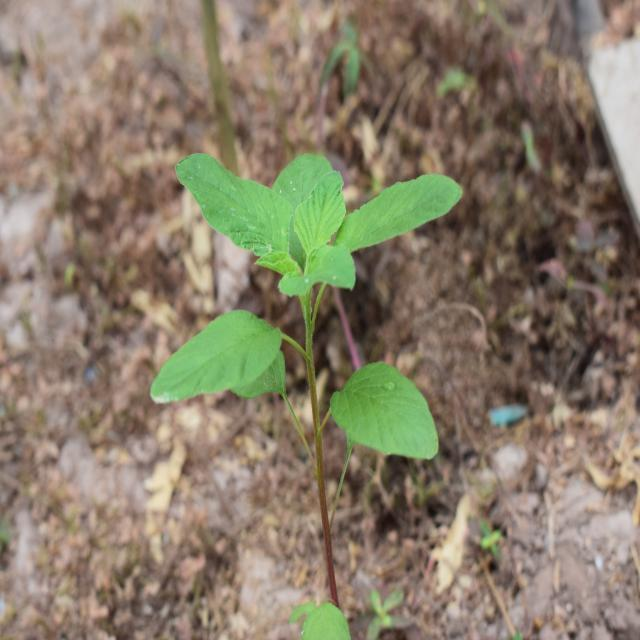pigweed: (151, 127, 472, 526)
